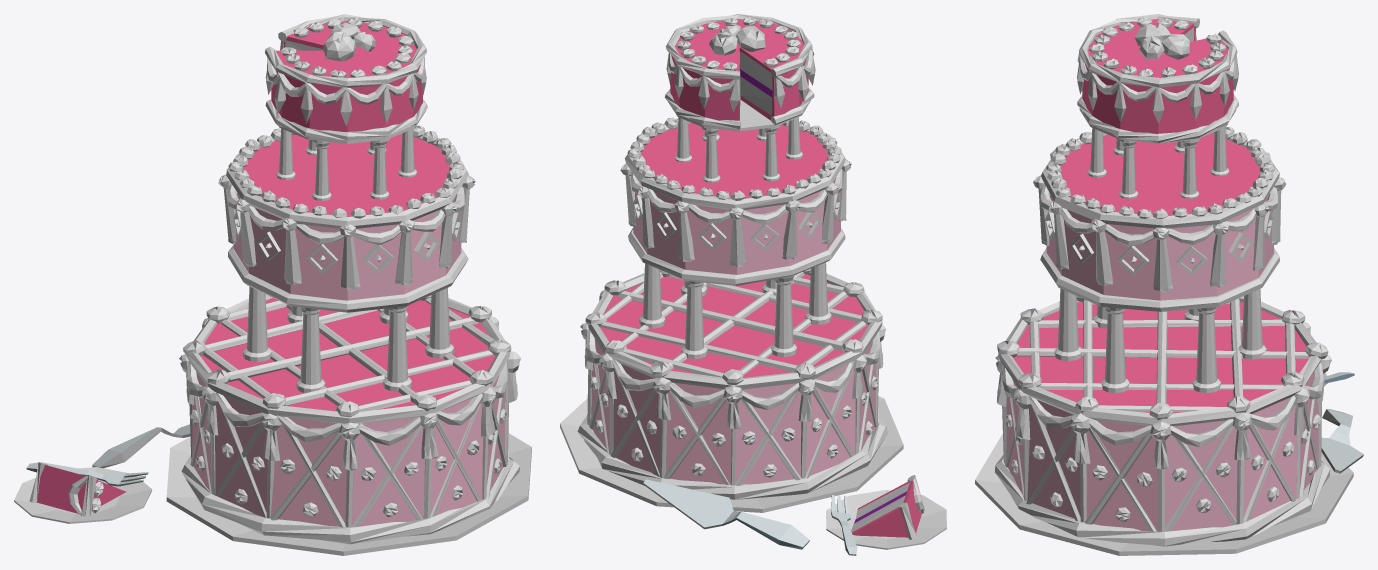
File: cake.glb
The picture shows the model from 3 angles, left to right: view 1: azimuth 30°, elevation 25°; view 2: azimuth 150°, elevation 25°; view 3: azimuth 270°, elevation 25°; orthographic projection. The views are drawn at different scales.
Parts seen in each view (by area): view 1: group554907474, group186422923, group605415499; view 2: group554907474, group186422923, group605415499; view 3: group554907474, group605415499.
Boxes of the visible parts, x1,y1,x2,y2 form: group554907474: (166, 14, 531, 555); group186422923: (14, 462, 152, 523); group605415499: (92, 424, 190, 468); group554907474: (560, 14, 903, 512); group186422923: (826, 475, 946, 555); group605415499: (643, 479, 809, 549); group554907474: (975, 14, 1353, 555); group605415499: (1321, 409, 1363, 473).
Bounding box in the file's own units: 1.93 × 1.97 × 1.49.
